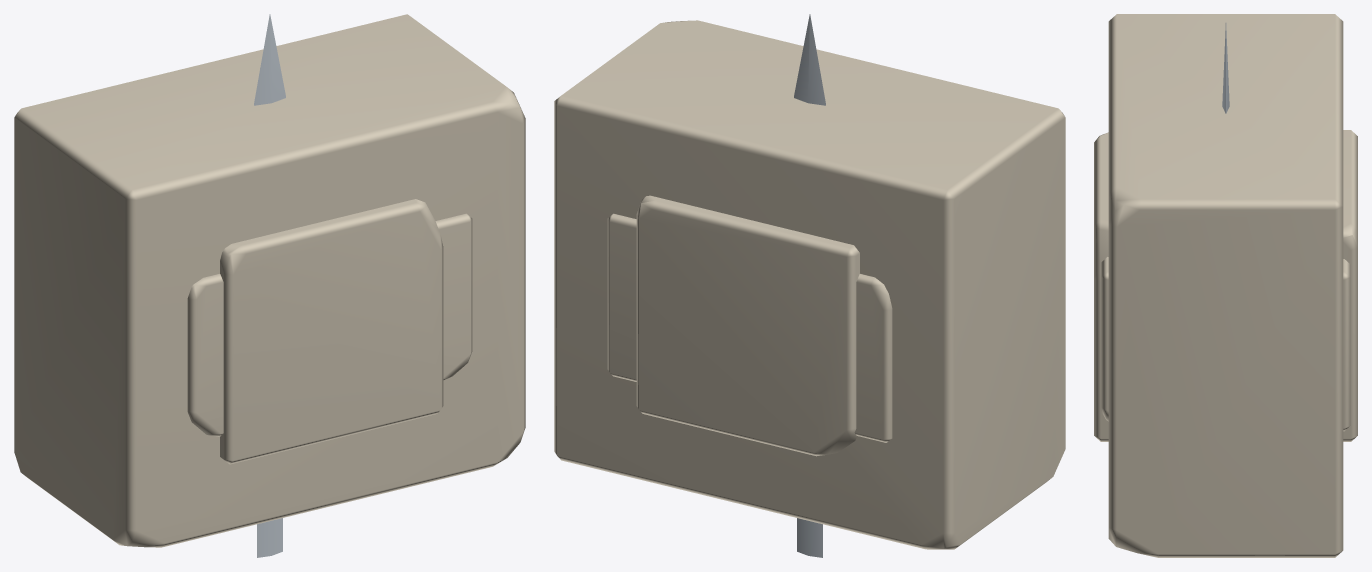
File: golem.glb
3 renders of one model, left to right at view 1: azimuth 30°, elevation 25°; view 2: azimuth 150°, elevation 25°; view 3: azimuth 270°, elevation 25°, orthographic.
Visible parts, largest first — view 1: part_19, part_28, part_0, part_45; view 2: part_19, part_28, part_0, part_45; view 3: part_19, part_28, part_0, part_45.
Boxes of the visible parts, box(x1,y1,x2,y2) form: part_19: box(14, 14, 525, 547); part_28: box(220, 199, 443, 464); part_0: box(187, 213, 472, 436); part_45: box(254, 14, 285, 557); part_19: box(554, 20, 1065, 549); part_28: box(636, 195, 859, 456); part_0: box(607, 213, 892, 442); part_45: box(794, 14, 825, 557); part_19: box(1108, 14, 1343, 557); part_28: box(1094, 130, 1357, 441); part_0: box(1101, 257, 1350, 431); part_45: box(1222, 23, 1229, 113).
Bounding box in the file's own units: 0.62 × 0.8 × 0.36.
